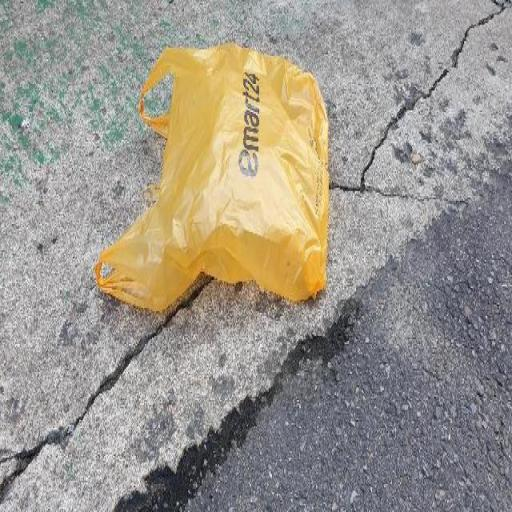polythene: (95, 43, 328, 310)
